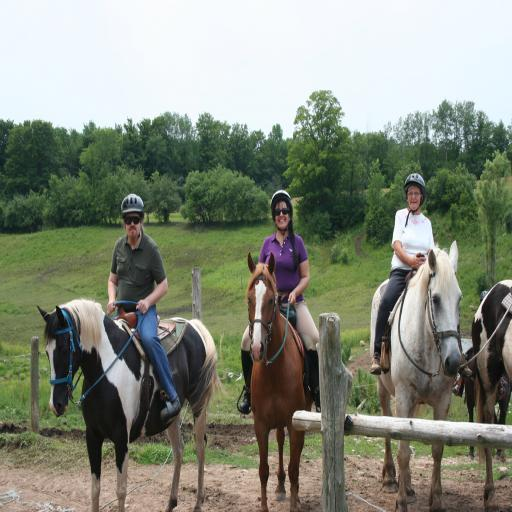horse: (37, 296, 226, 512), (370, 237, 466, 512), (244, 250, 306, 512), (470, 278, 512, 510)
